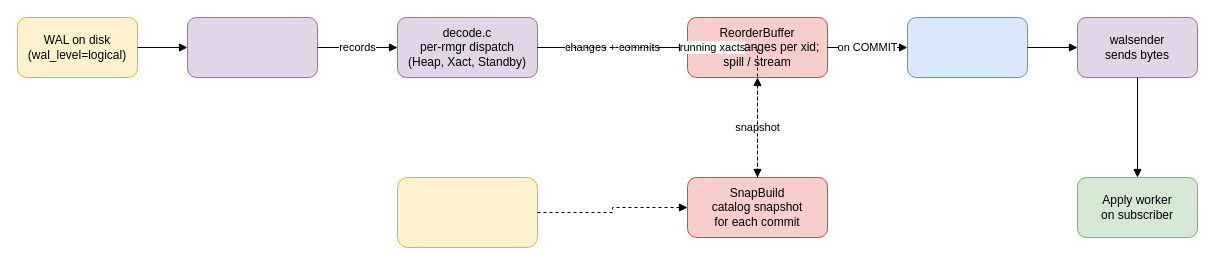
Image size: 1215x265. Some labels were removed from this diagram. Here are the shapes that lost their labels. From the top down, the centre of each, then its label:
the point at 252,47: XLogReader reads from slot's restart_lsn
the point at 967,47: Output plugin pgoutput / test_decoding
the point at 467,212: System catalogs (old row versions kept by catalog_xmin)
